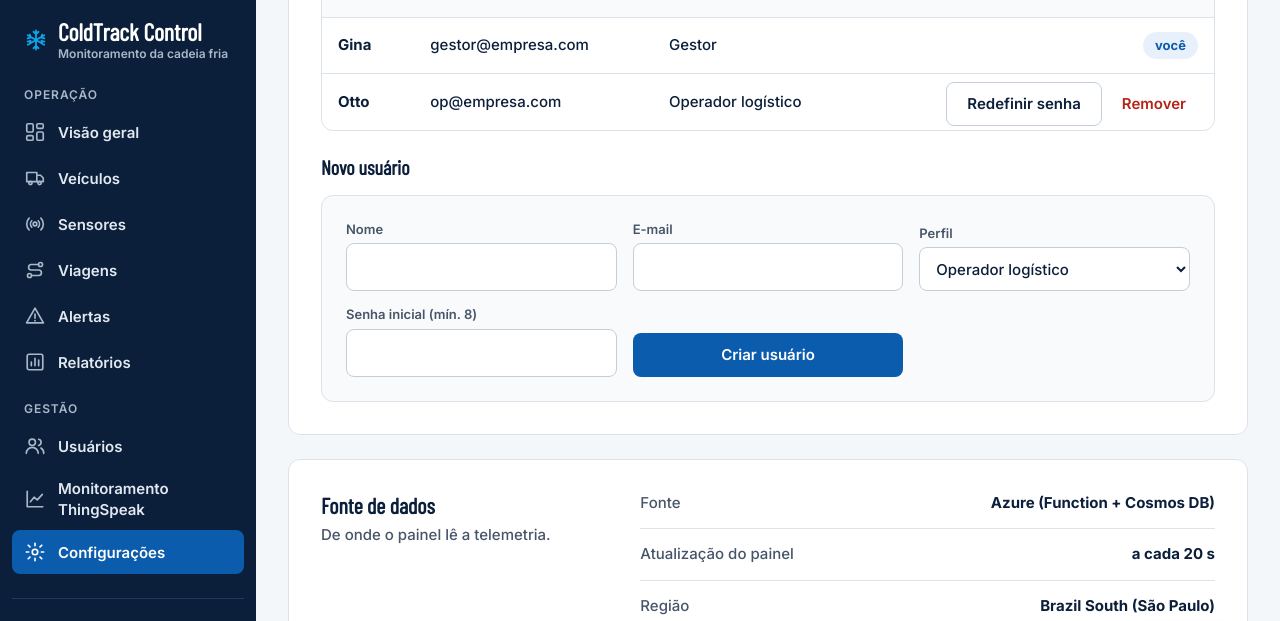
Configurações › criar usuário recusado: mostra o erro no formulário
(page scrolled)
Expected: the text "você" is shown, [1143, 32, 1198, 59]
Click the button "Criar usuário" at (768, 355), box [633, 333, 903, 377]
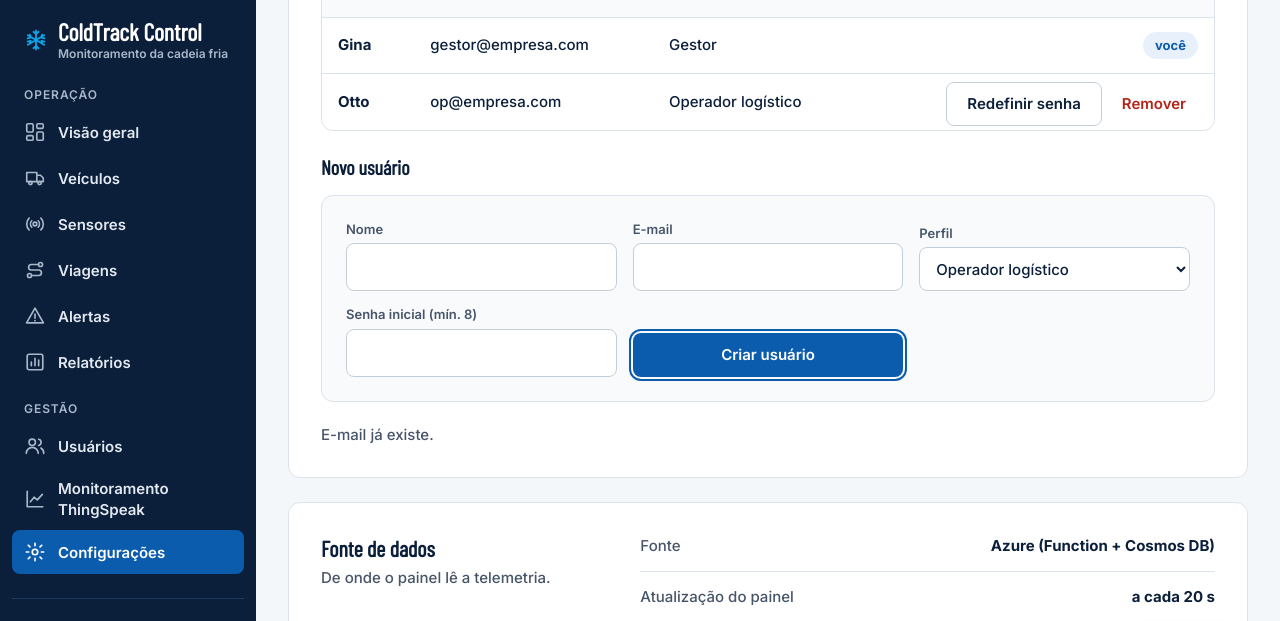
Now the text "E-mail já existe." is shown, box [321, 425, 434, 444]
